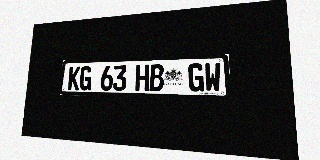3: (113, 65, 127, 91)
6: (100, 65, 114, 91)
B: (149, 64, 164, 91)
G: (188, 63, 204, 92), (79, 66, 92, 90)
H: (135, 64, 149, 91)
K: (68, 66, 80, 90)
W: (204, 63, 221, 92)
